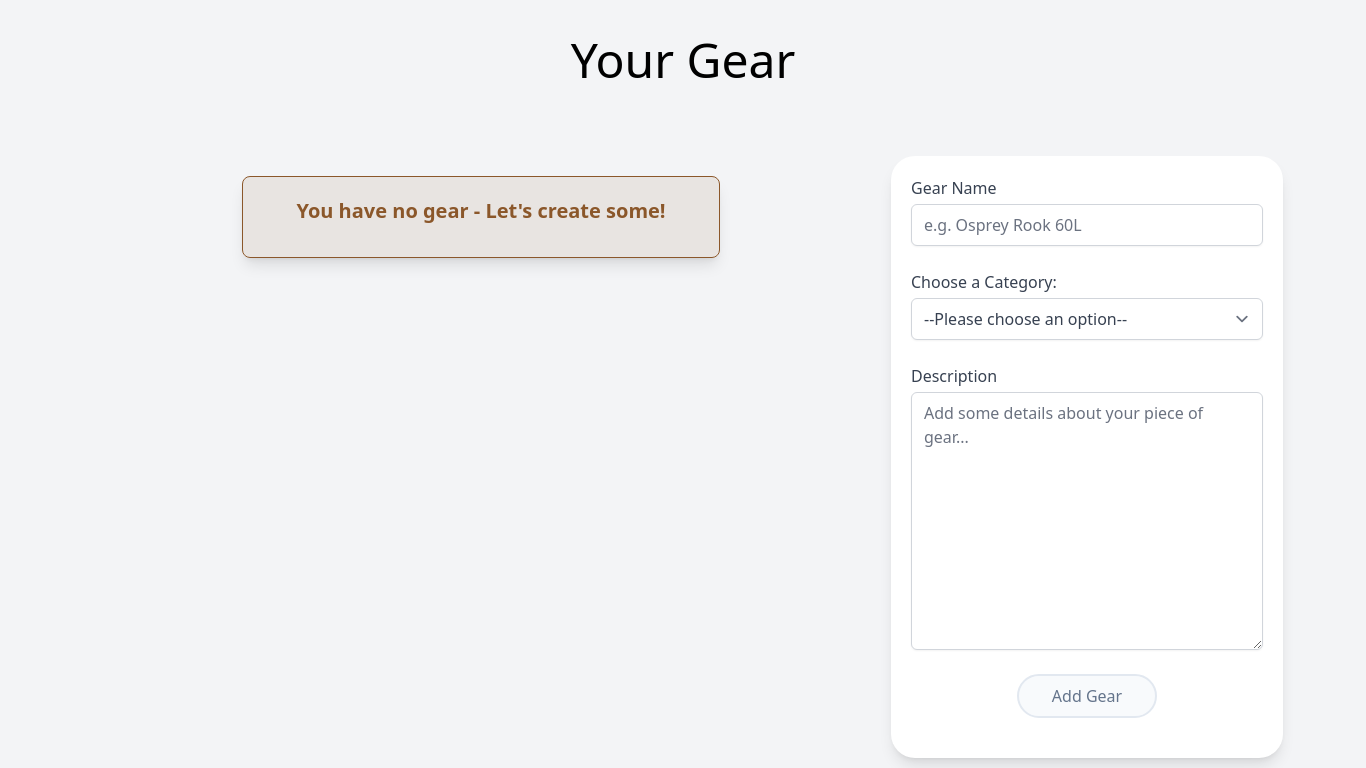
Gear Component › should display a new item of gear once created
This screenshot has width=1366, height=768.
Type "Hiking shorts" into the field with placeholder "e.g. Osprey Rook 60L".
click(1087, 225); type("Hiking shorts")  # box [911, 204, 1263, 246]
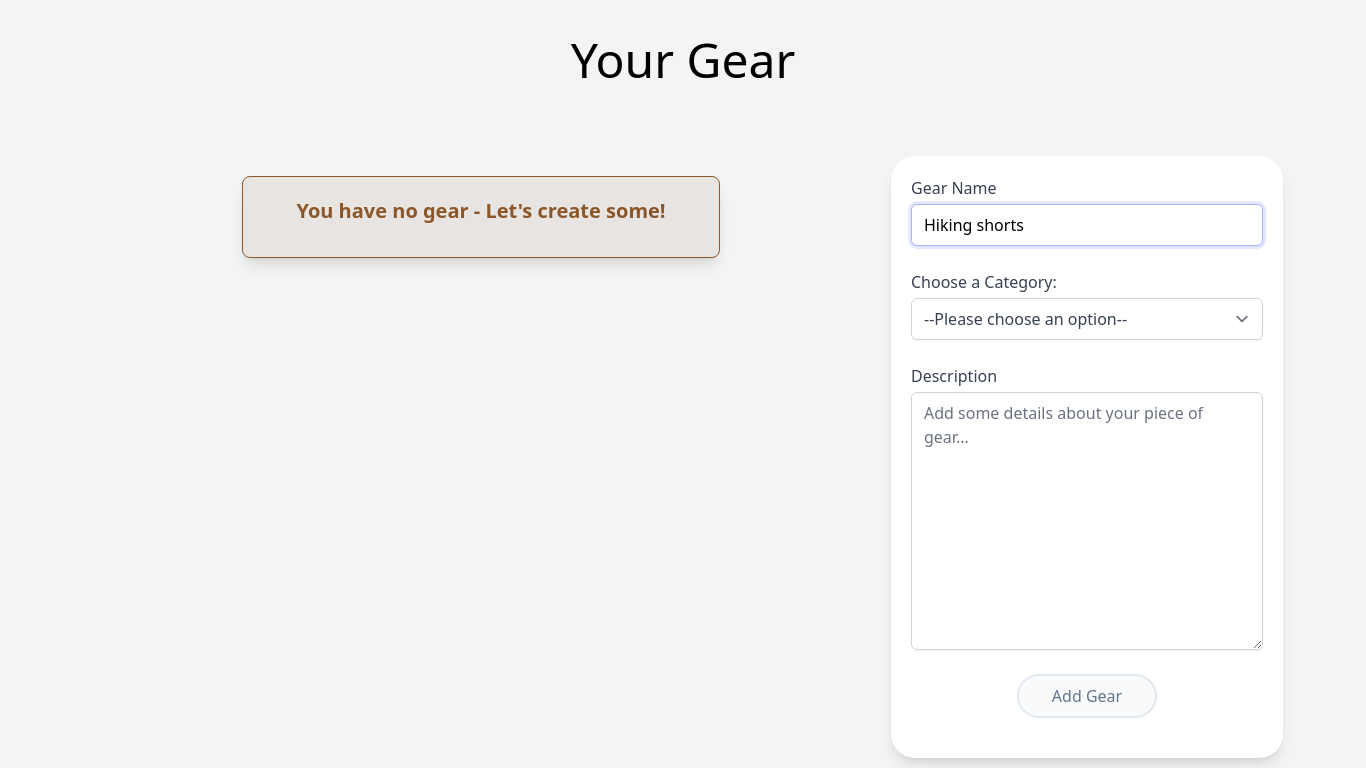
Select "Clothing" in the dropdown labelled "Choose a Category:" at (1087, 319), box [911, 298, 1263, 340]
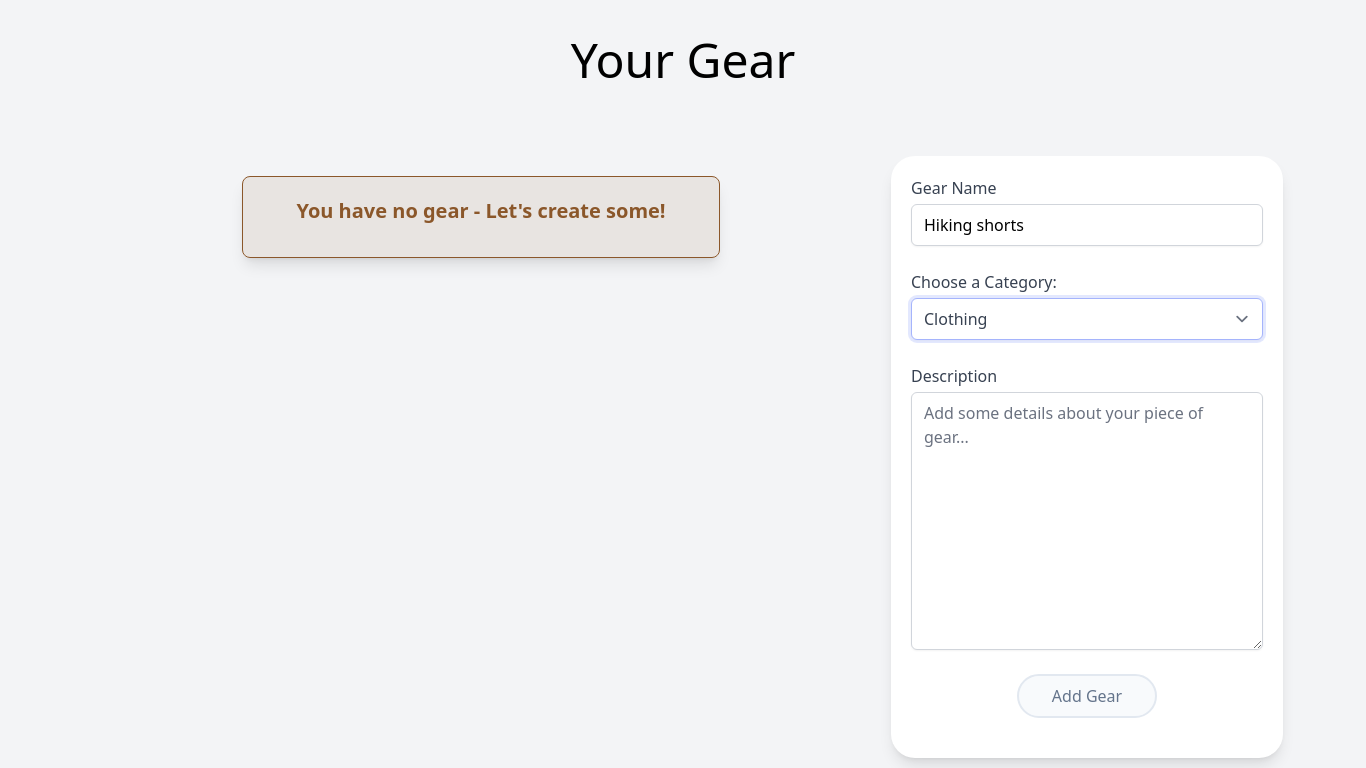
Type "has pockets for biscuits" into the text box with placeholder "Add some details about your piece of gear...".
click(1087, 521); type("has pockets for biscuits")  # box [911, 392, 1263, 650]
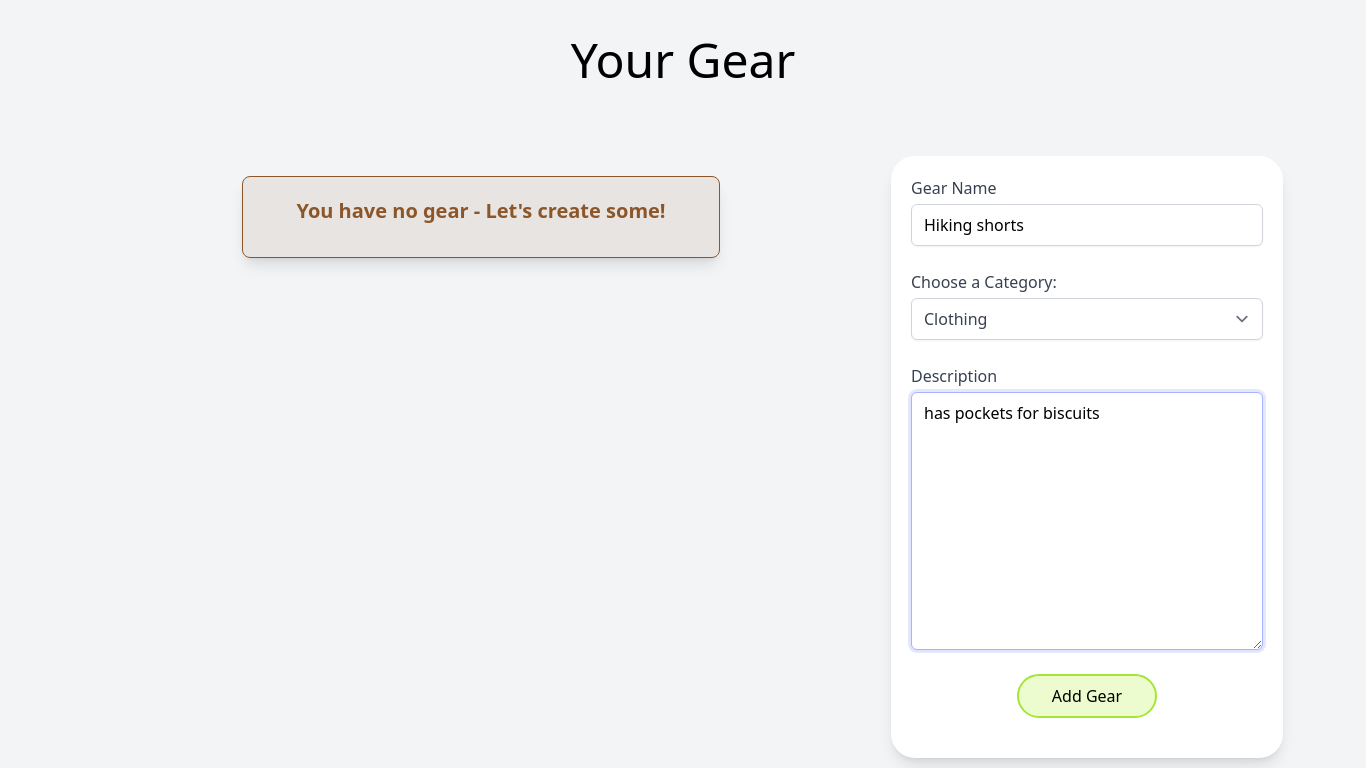
Click the button "Add Gear".
click(1087, 696)  # box [1017, 674, 1157, 718]
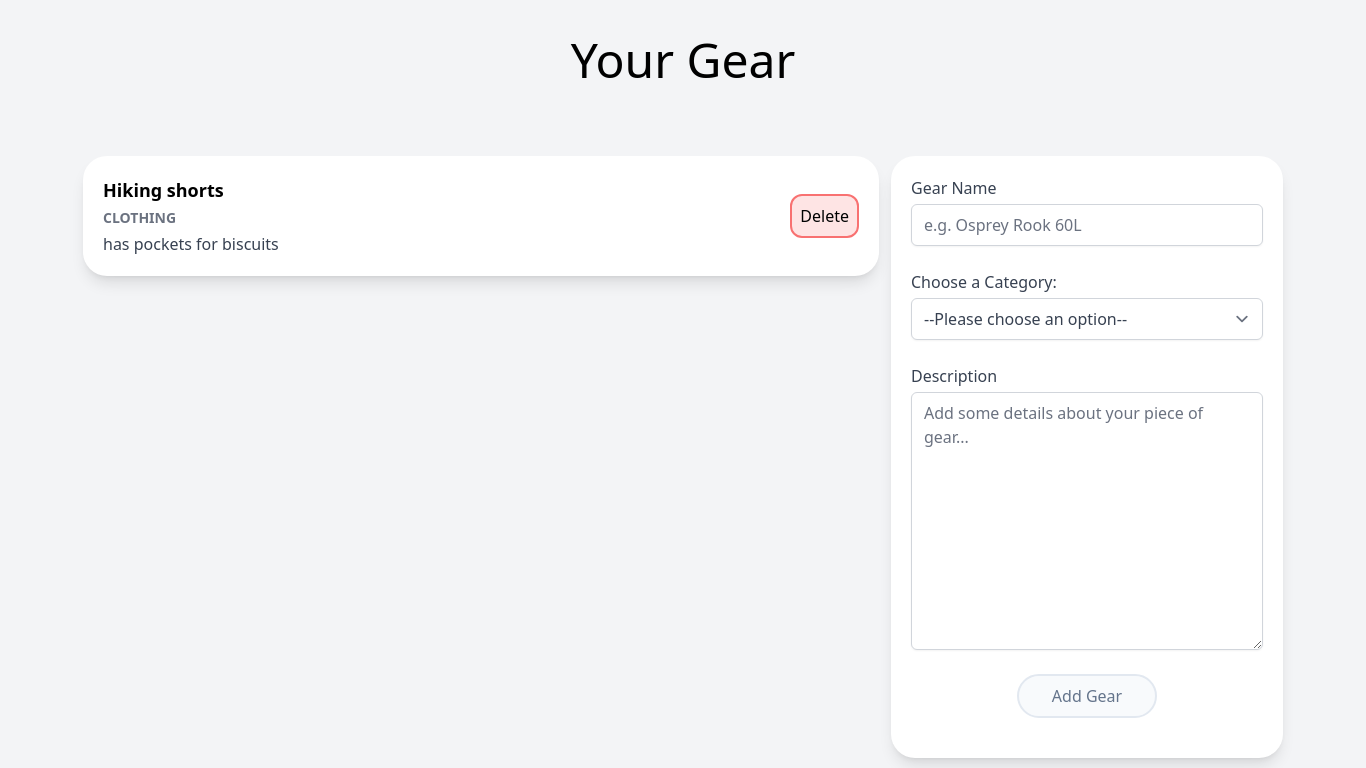
Check: the heading "Hiking shorts" is shown, box [103, 178, 224, 202]
